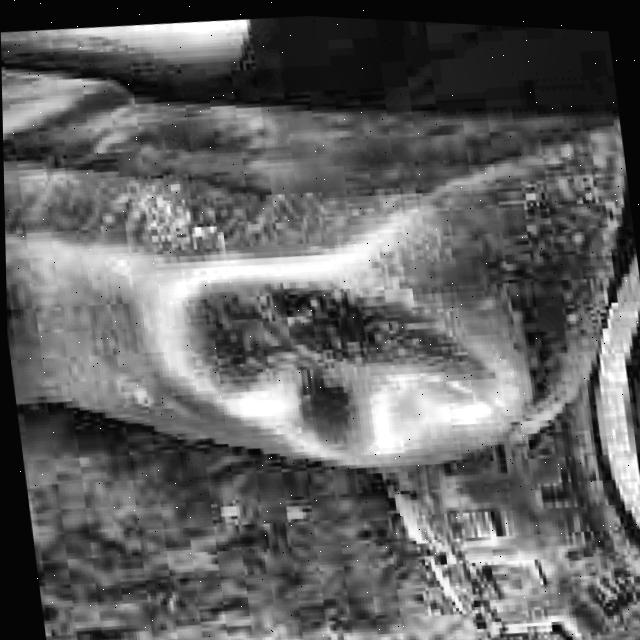bumper_dent: (146, 234, 537, 497)
